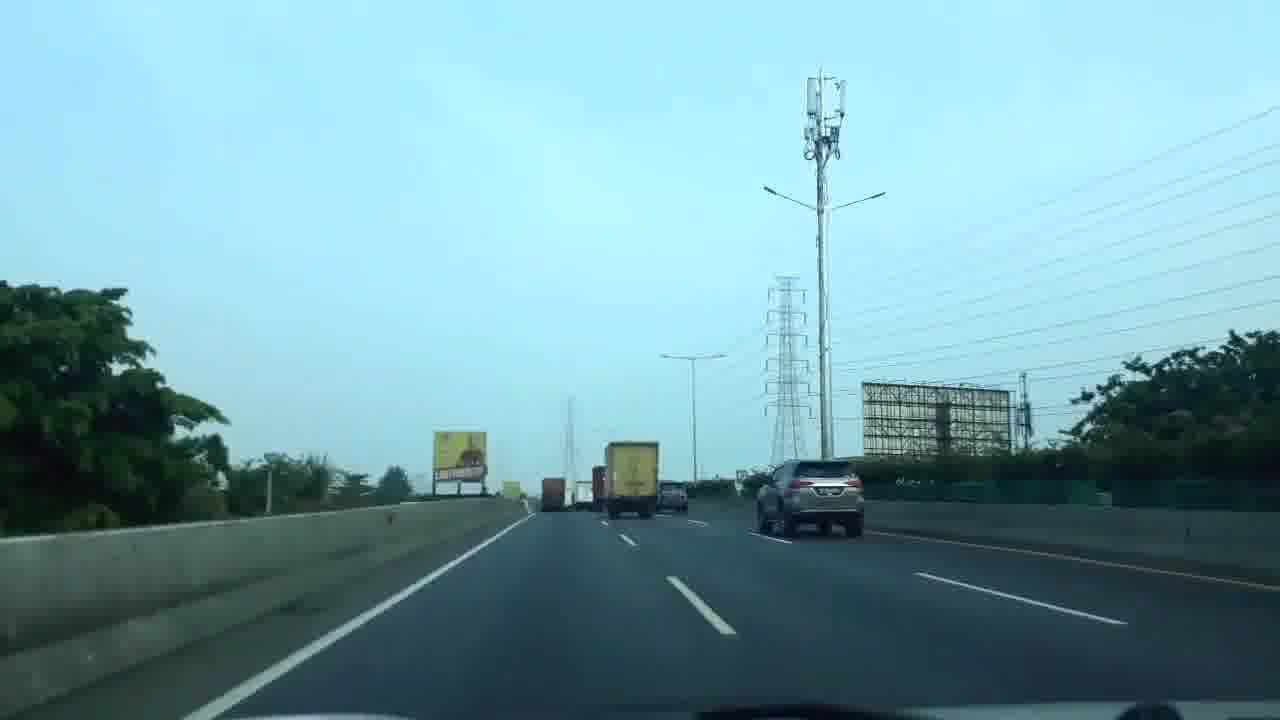plate_positive: (817, 487, 841, 496)
